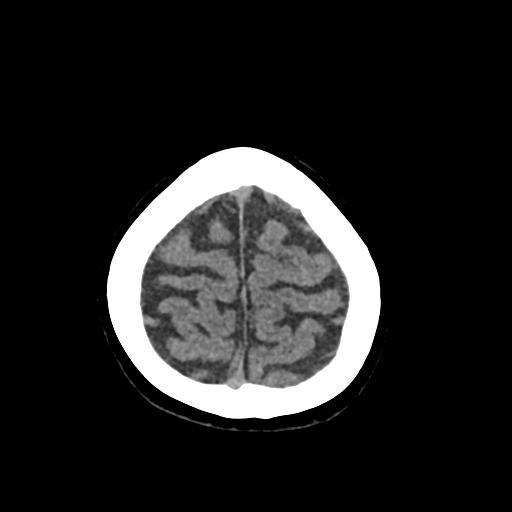Normal_Brain: (106, 128, 381, 476)
